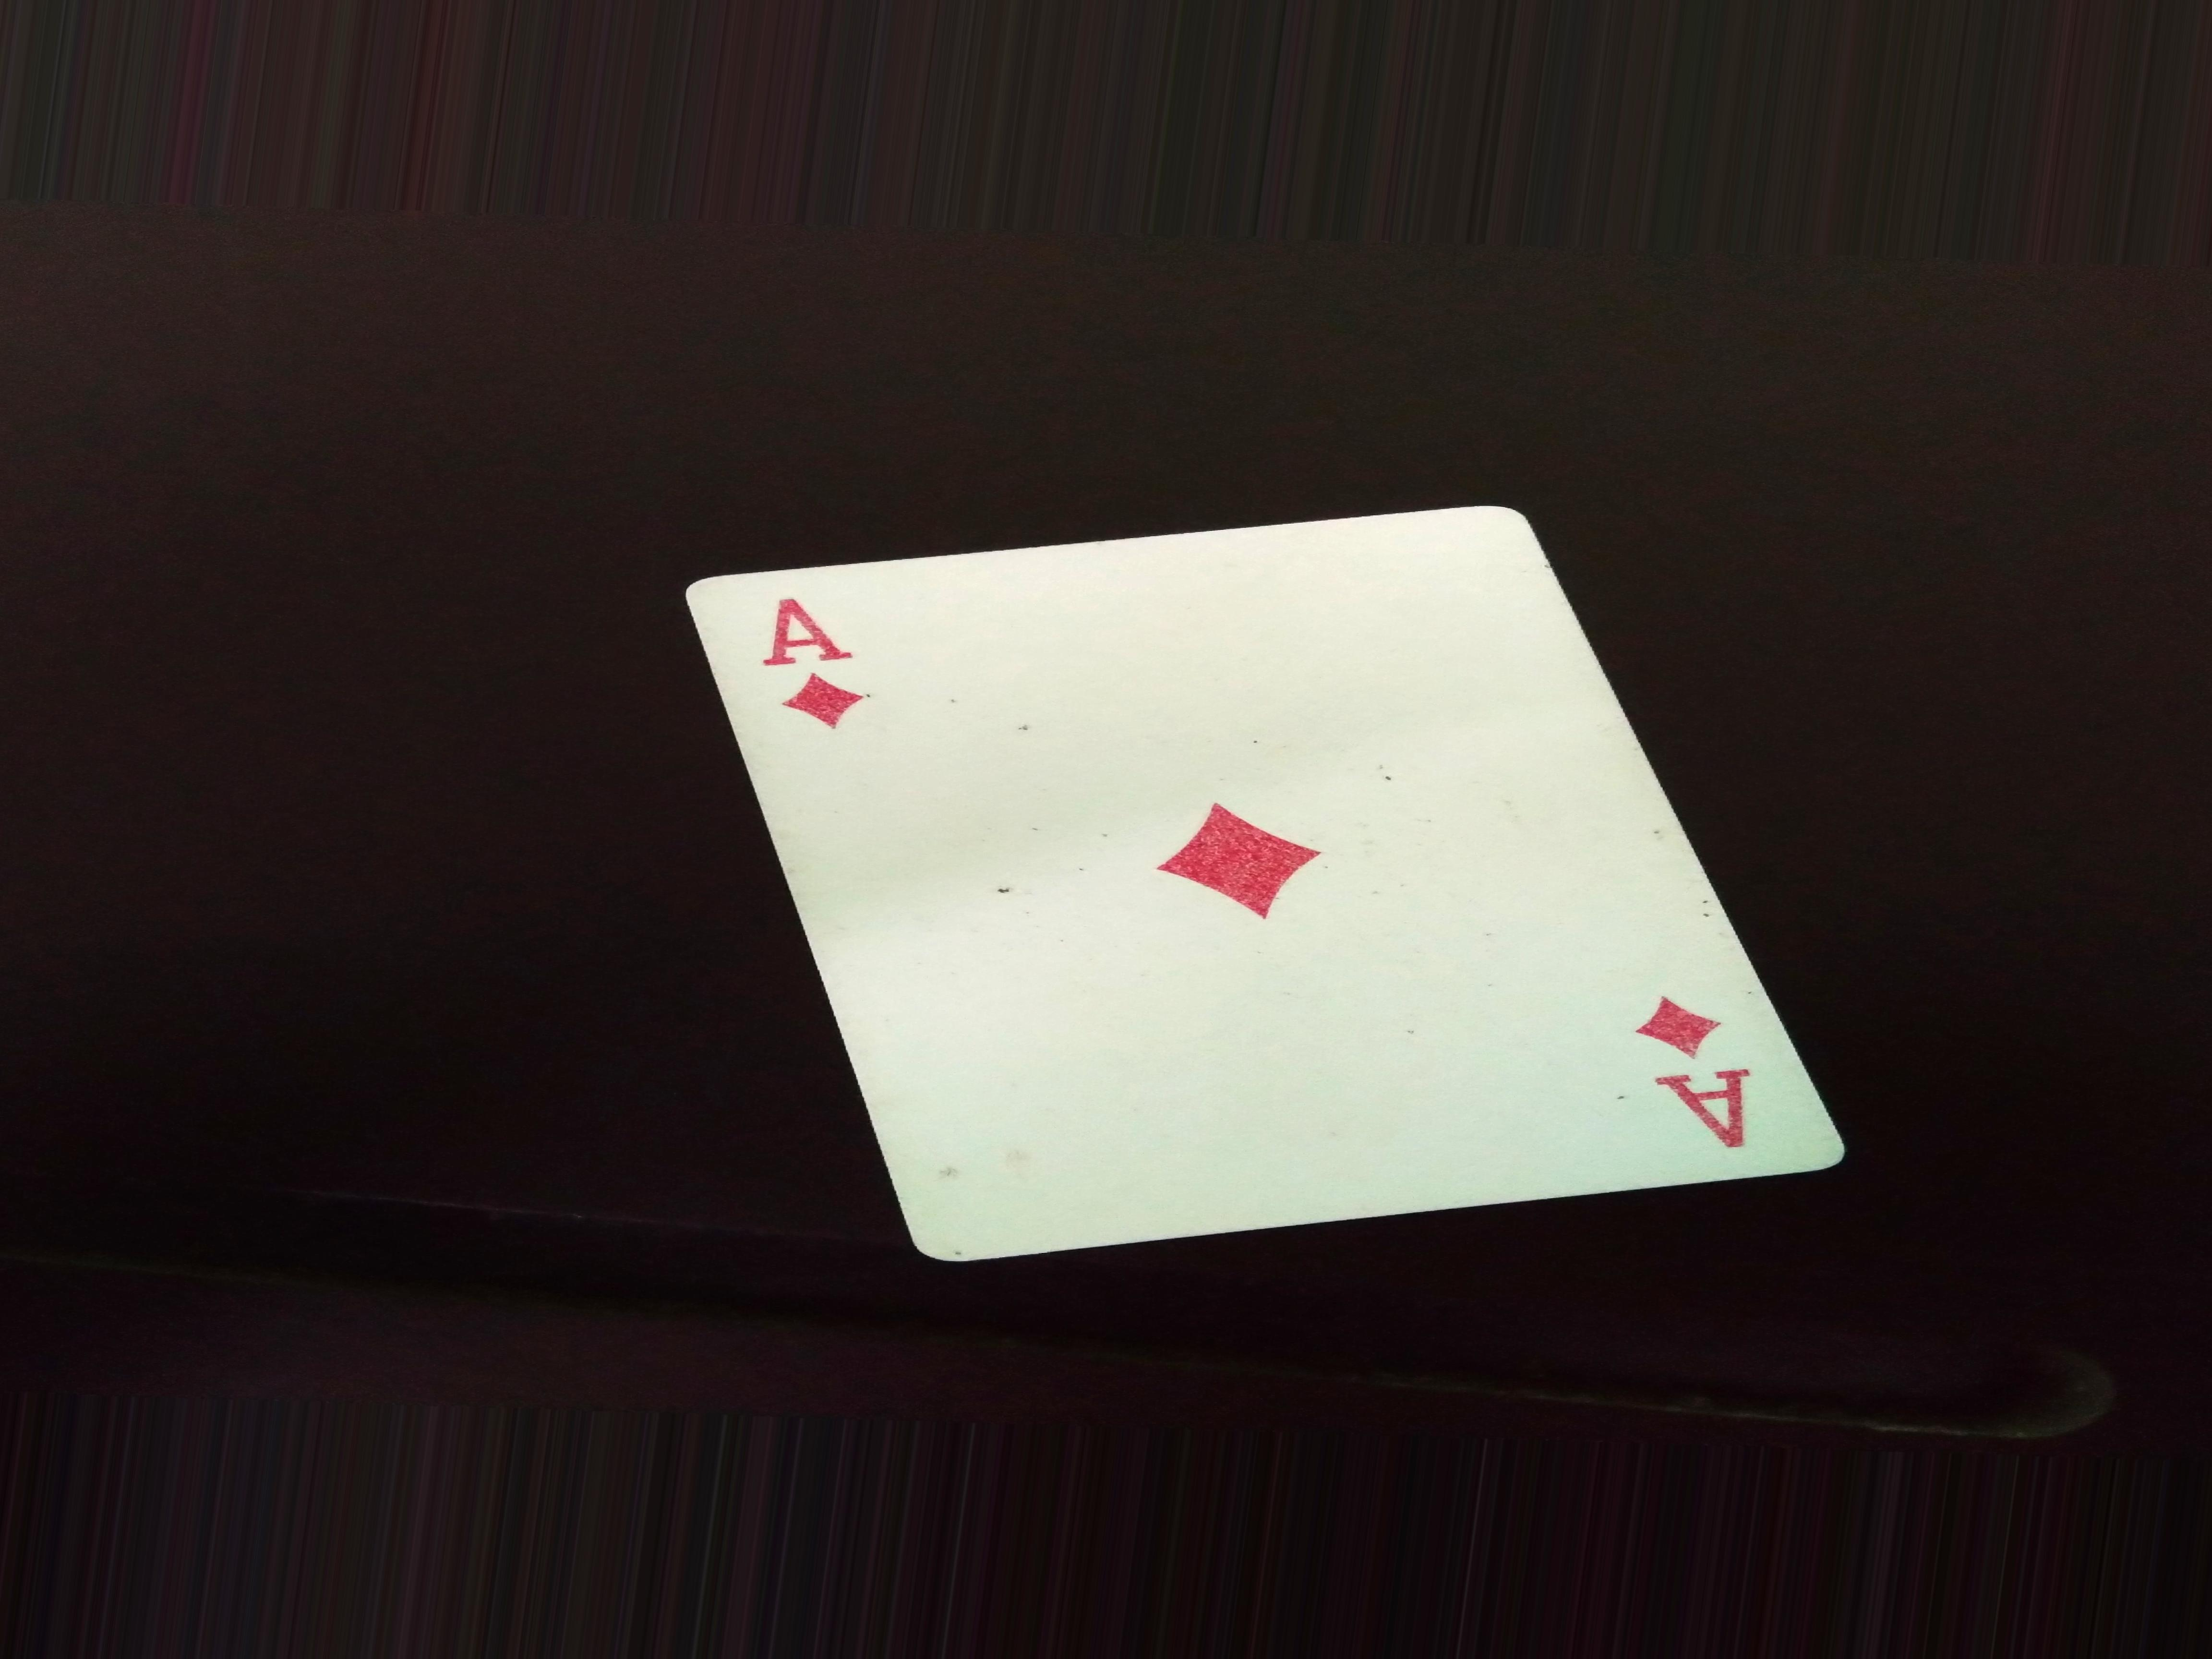AD: (740, 570, 888, 774)
